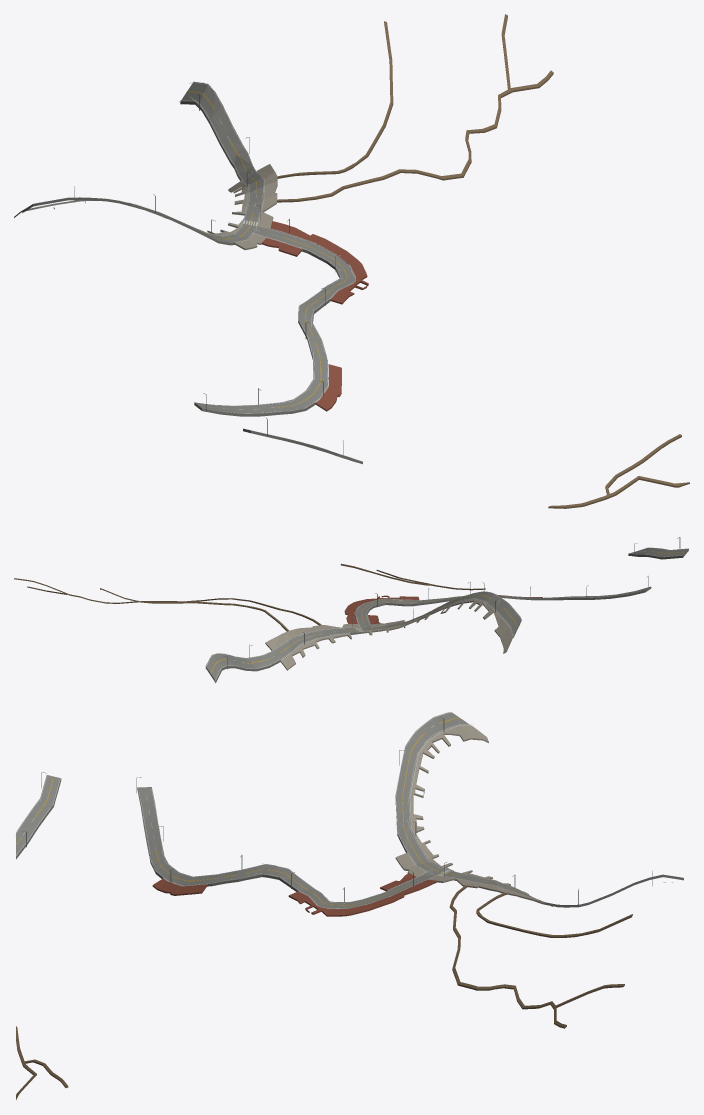
The picture shows the model from 3 angles, top to bottom: view 1: azimuth 30°, elevation 25°; view 2: azimuth 150°, elevation 25°; view 3: azimuth 270°, elevation 25°; orthographic projection. The views are drawn at different scales.
Size of the model in its own units: 274 by 101 by 295.
